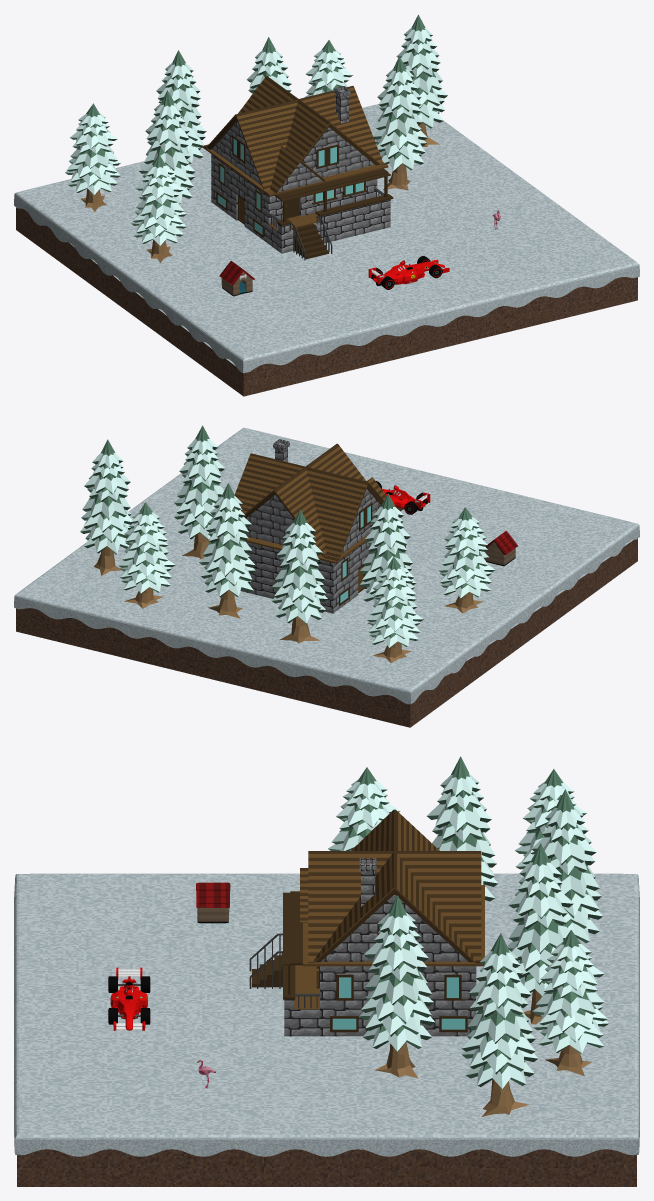
3 views of the same model, one above another, from view 1: azimuth 30°, elevation 25°; view 2: azimuth 150°, elevation 25°; view 3: azimuth 270°, elevation 25° (orthographic). The views are drawn at different scales.
Visible parts, largest first — view 1: Cube.003, Cube.586, VEHICLES_FORMULA_1, OBJRANDOM_DOGHOUSE; view 2: Cube.003, Cube.586, OBJRANDOM_DOGHOUSE, VEHICLES_FORMULA_1; view 3: Cube.003, Cube.586, VEHICLES_FORMULA_1, OBJRANDOM_DOGHOUSE.
Boxes of the visible parts, <box> form: Cube.003: <box>14,14,639,396</box>; Cube.586: <box>202,76,393,260</box>; VEHICLES_FORMULA_1: <box>368,256,449,289</box>; OBJRANDOM_DOGHOUSE: <box>219,261,254,296</box>; Cube.003: <box>14,425,639,727</box>; Cube.586: <box>234,439,405,613</box>; OBJRANDOM_DOGHOUSE: <box>485,531,517,566</box>; VEHICLES_FORMULA_1: <box>376,481,430,514</box>; Cube.003: <box>14,756,639,1186</box>; Cube.586: <box>249,809,484,1036</box>; VEHICLES_FORMULA_1: <box>108,967,150,1030</box>; OBJRANDOM_DOGHOUSE: <box>196,882,230,923</box>.
Size of the model in its own units: 4040 by 1700 by 4040.
Materials: 34 (4 with a texture image).
